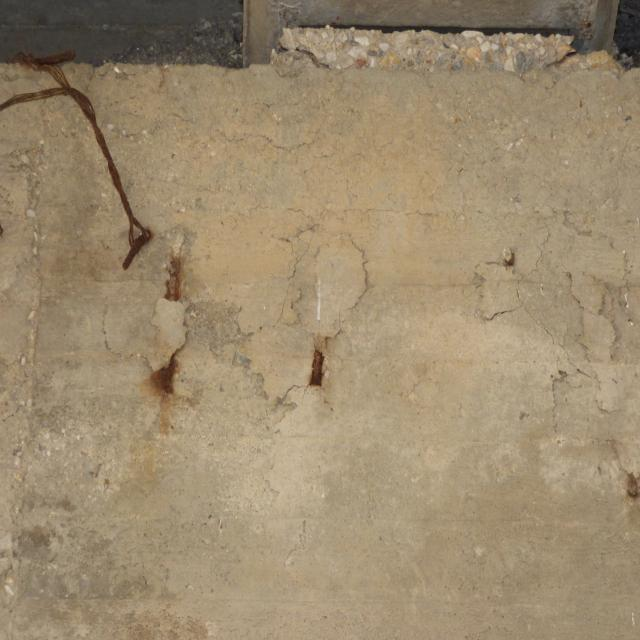corrosion: (137, 248, 344, 466), (0, 47, 163, 278), (617, 455, 640, 509), (499, 238, 521, 276)
